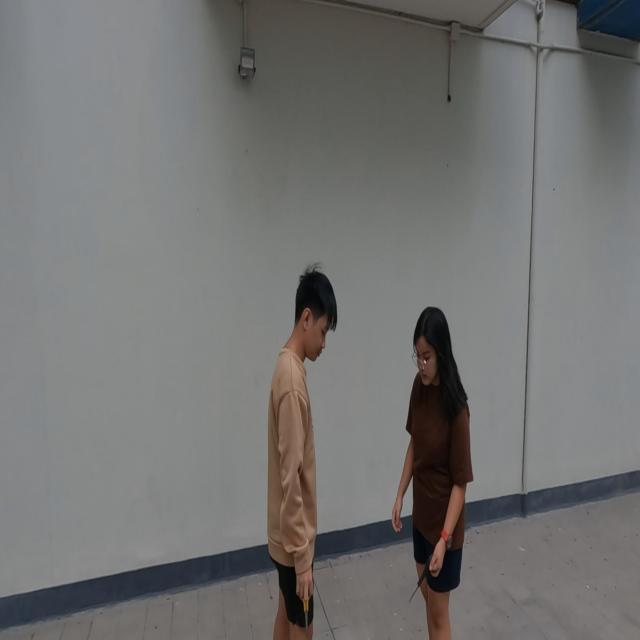scissor: (409, 554, 434, 603), (299, 586, 312, 638)
